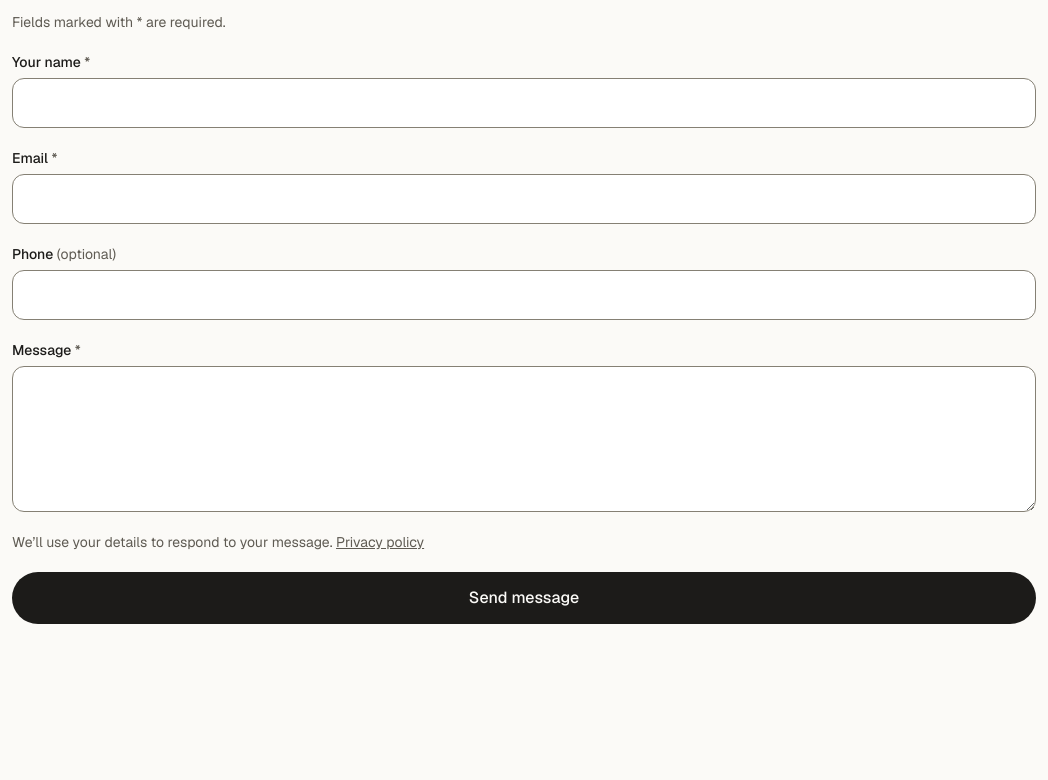
it: shows success after receipt and prevents resubmission while pending
Later steps or results of the test are not shown.
Step 1. Type "Jane" into the field labelled "Your name *" → (524, 103), box [12,78,1036,128]
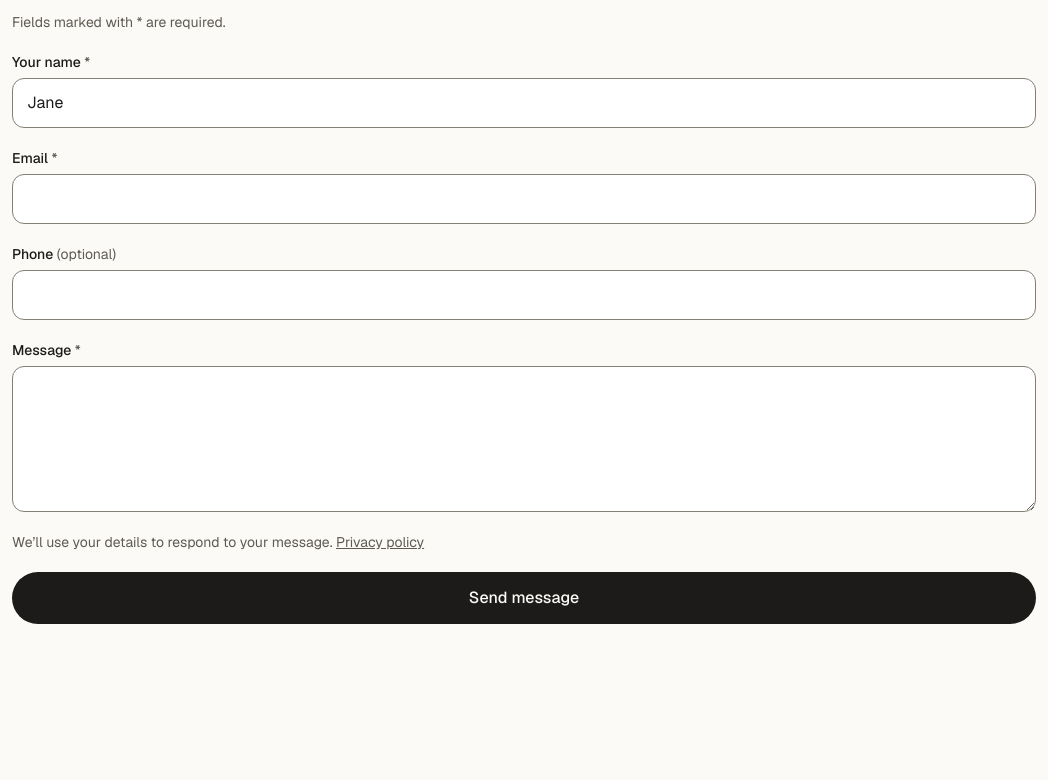
Step 2. Type "jane@example.com" into the field labelled "Email *" → (524, 199), box [12,174,1036,224]
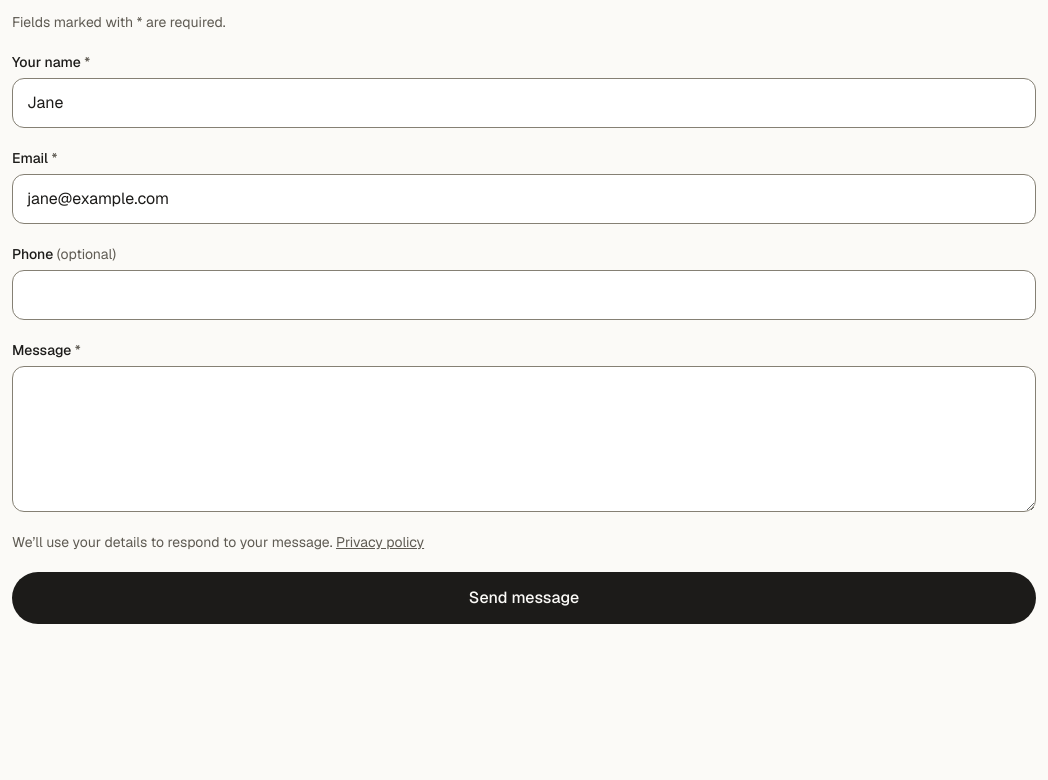
Step 3. Type "My advertising question." into the text box labelled "Message *" → (524, 439), box [12,366,1036,512]
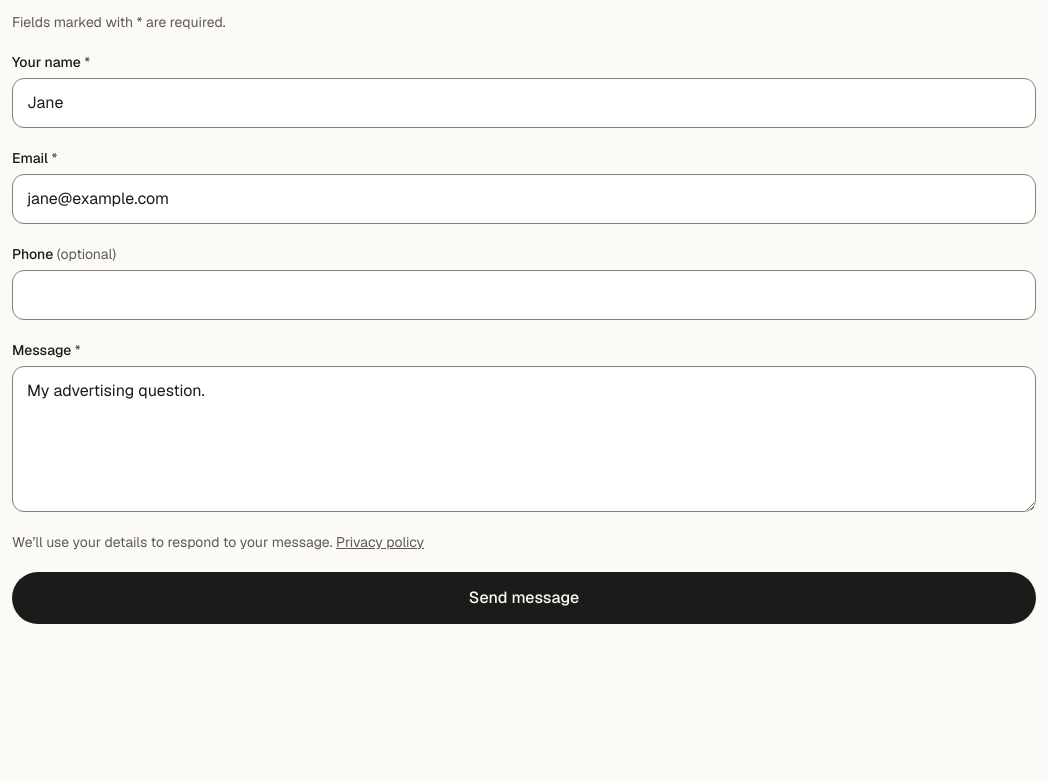
Step 4. Click the button "Send message" → (524, 598), box [12,572,1036,624]
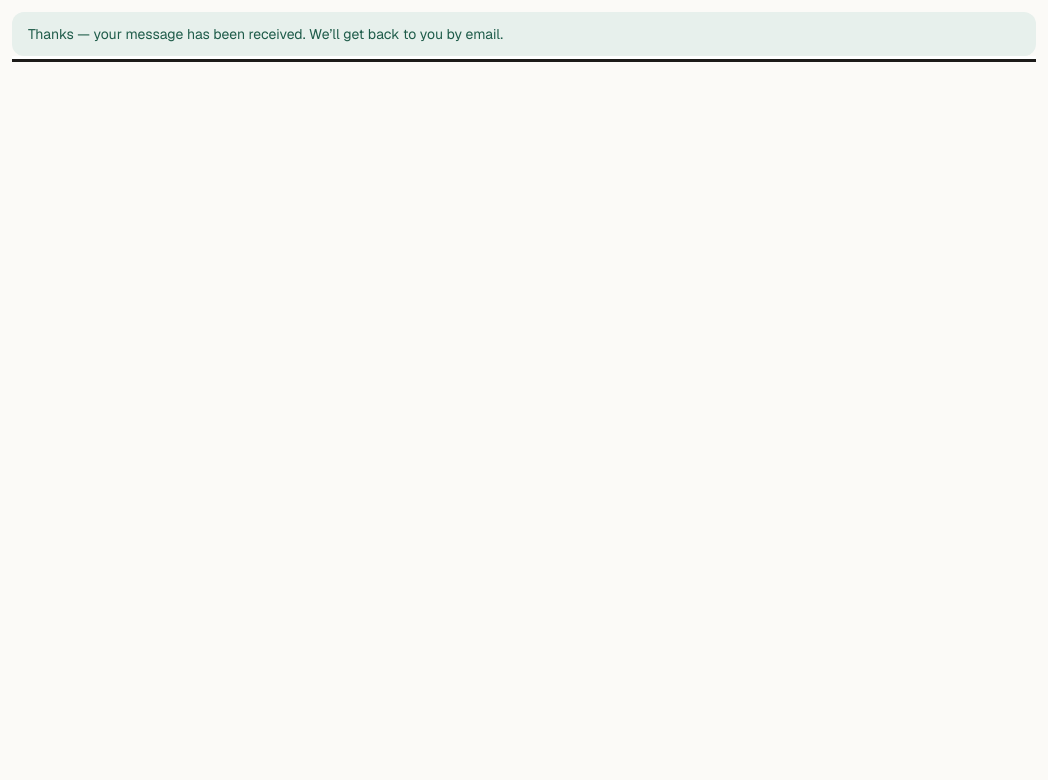
Result: the message reads "Thanks — your message has been received. We’ll get back to you by email." at [28,25,503,43]
